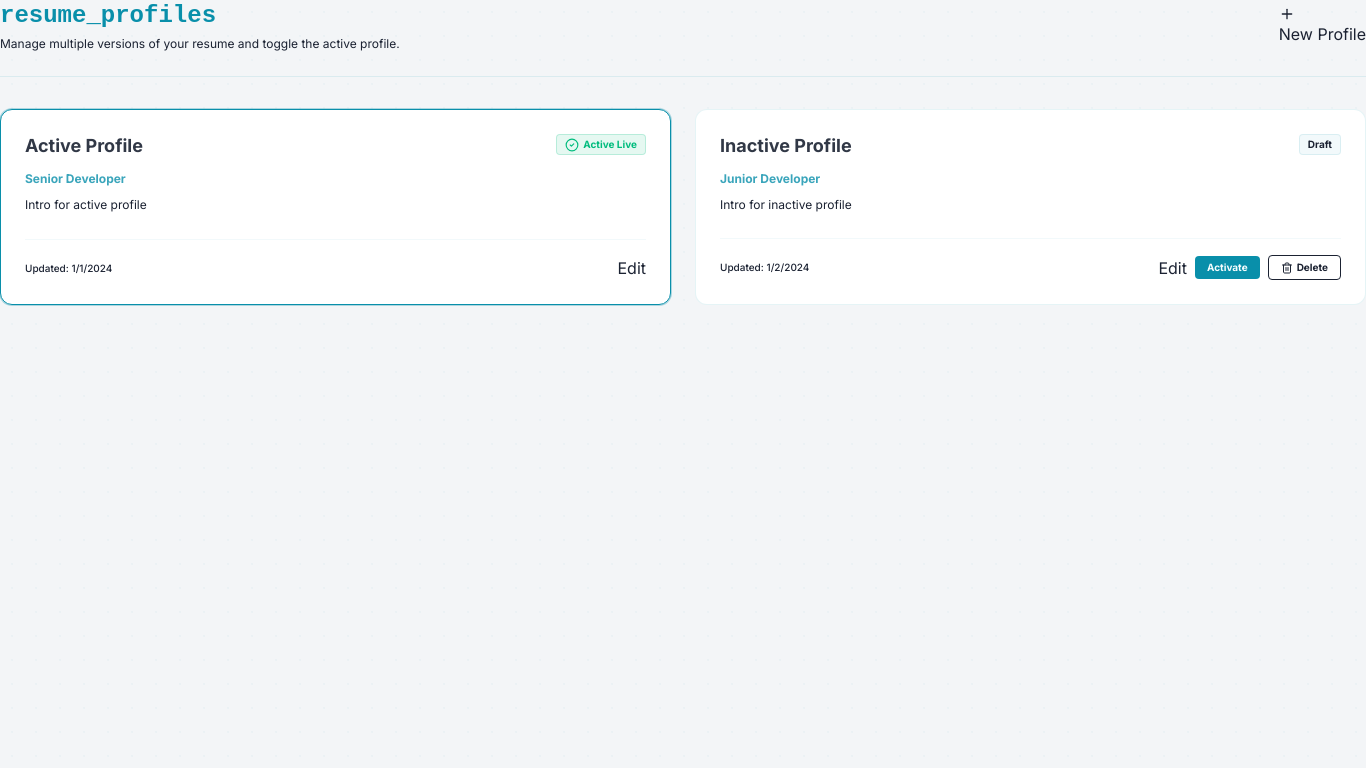
Test case: ResumeProfilesPage › cancels deletion when cancel is clicked
expect the heading "Inactive Profile" is shown: met, box [720,134,852,159]
Step 1. Click the button "Delete" → (1304, 268), box [1268,255,1341,280]
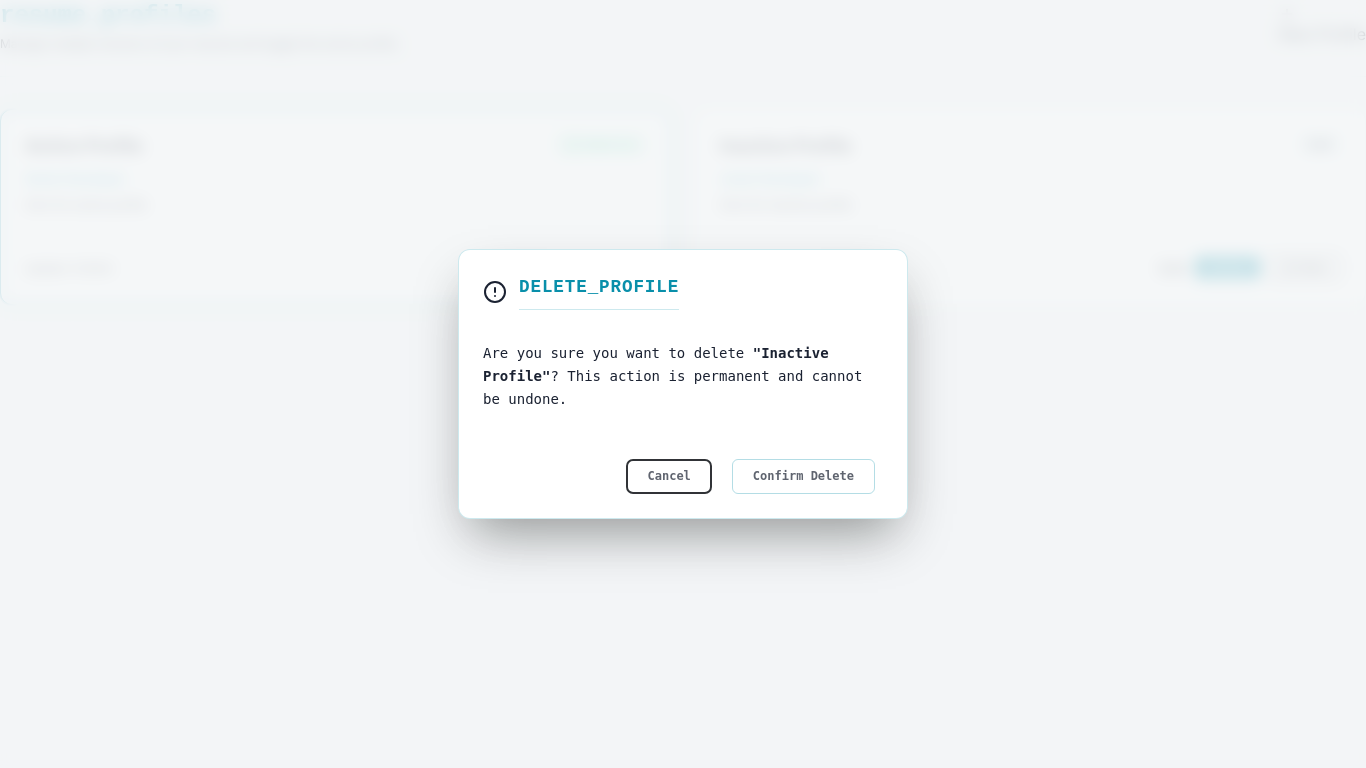
Step 2. Click the button "Cancel" → (669, 476), box [626,459,712,494]
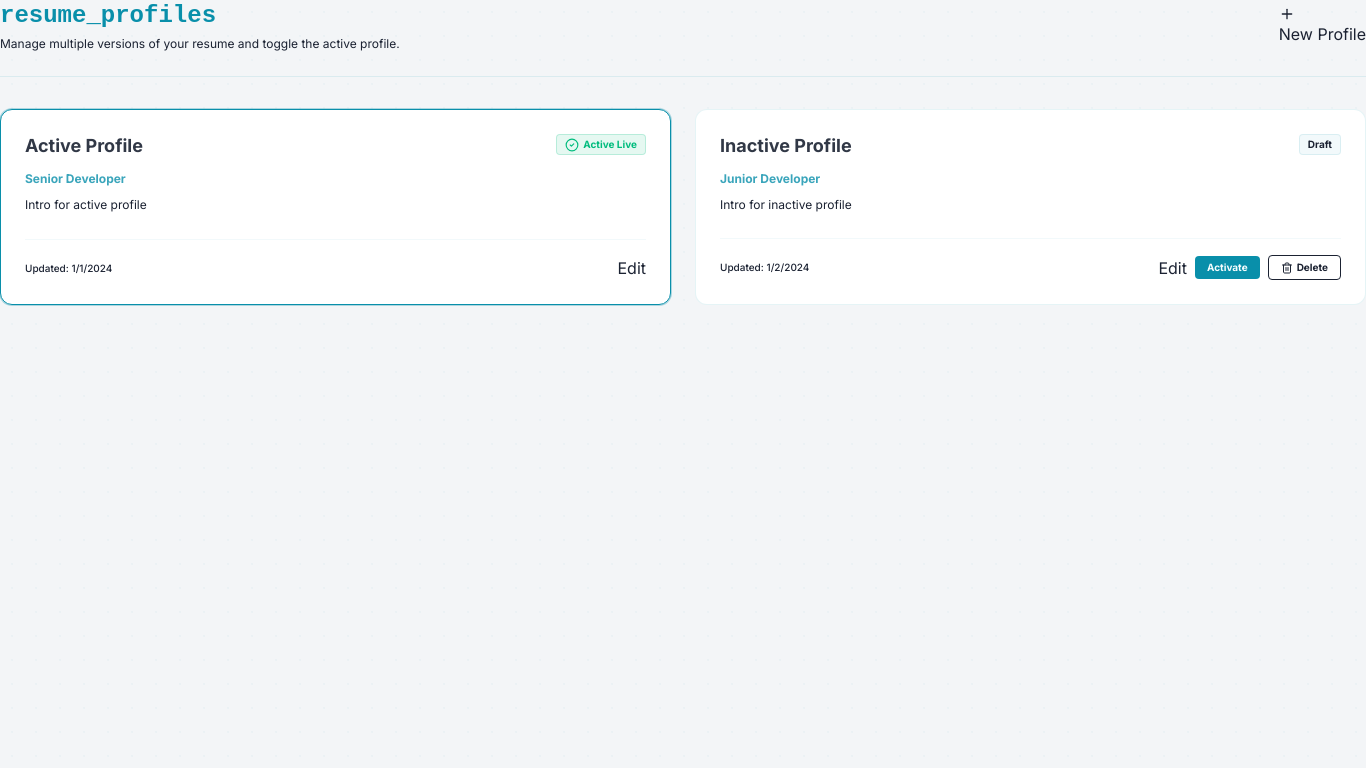
expect the heading "delete_profile" is gone: met
